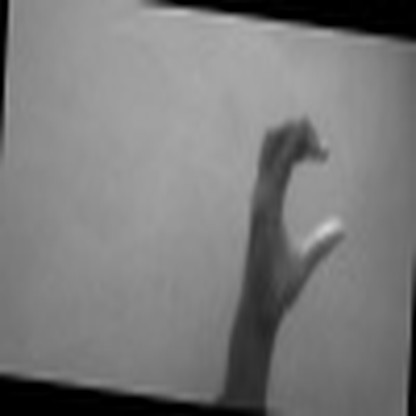c: (244, 108, 347, 308)
